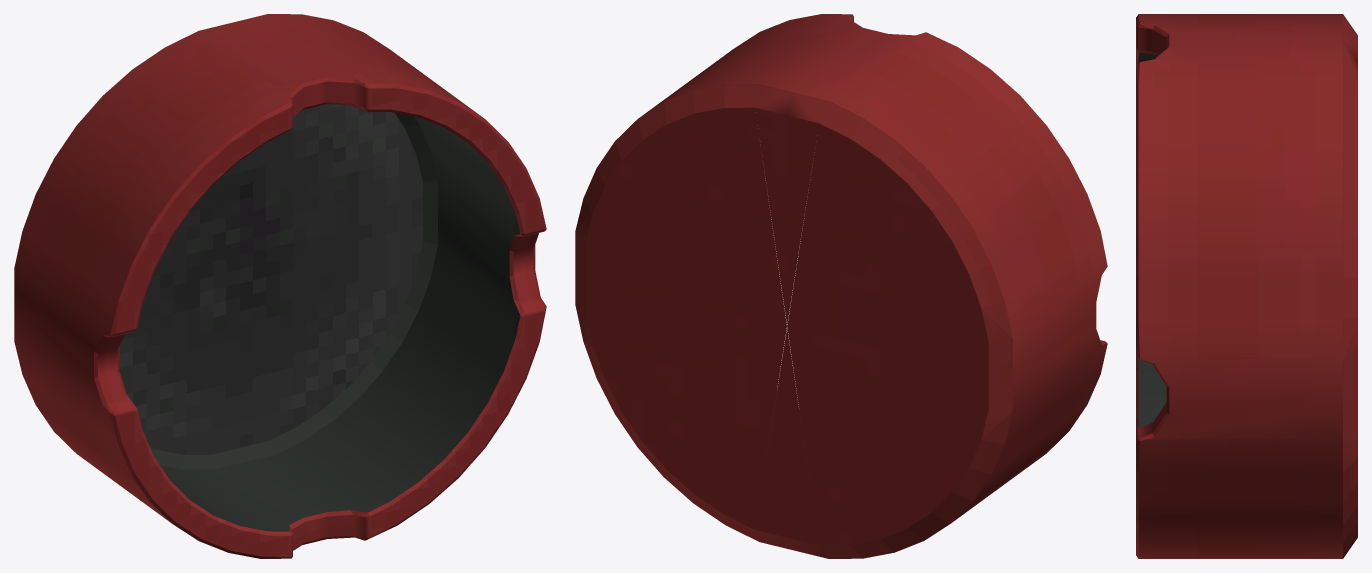
Rendered from nt_2020_ashtray_01_LOD0.obj.
The picture shows the model from 3 angles, left to right: view 1: azimuth 30°, elevation 25°; view 2: azimuth 150°, elevation 25°; view 3: azimuth 270°, elevation 25°; orthographic projection. The views are drawn at different scales.
Parts seen in each view (by area): view 1: mtl_nt_2020_ashtray_01, mtl_nt_2020_ashtray_02; view 2: mtl_nt_2020_ashtray_02; view 3: mtl_nt_2020_ashtray_02, mtl_nt_2020_ashtray_01.
Part boxes in pixels (x1,y1,x2,y2): mtl_nt_2020_ashtray_01: [119, 104, 520, 531]; mtl_nt_2020_ashtray_02: [14, 14, 546, 558]; mtl_nt_2020_ashtray_02: [575, 14, 1107, 558]; mtl_nt_2020_ashtray_02: [1136, 14, 1357, 558]; mtl_nt_2020_ashtray_01: [1138, 52, 1166, 427].
Size of the model in its own units: 11.49 by 11.49 by 4.7.
